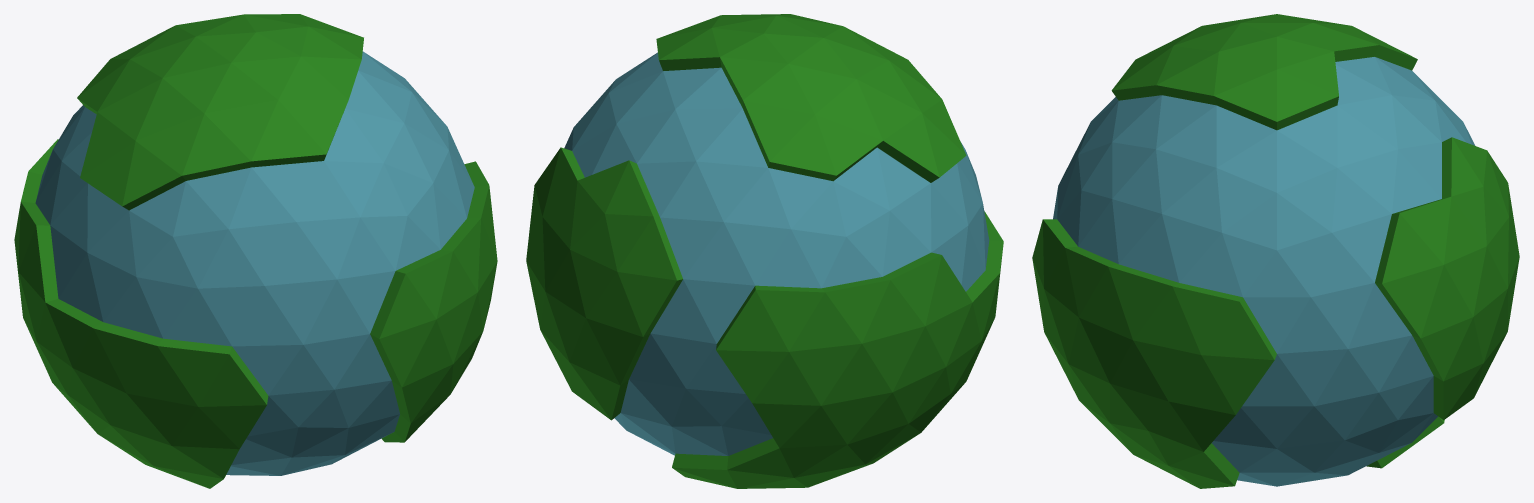
The model's file is world.glb.
3 views of the same model, side by side, from view 1: azimuth 30°, elevation 25°; view 2: azimuth 150°, elevation 25°; view 3: azimuth 270°, elevation 25° (orthographic).
Visible parts, largest first — view 1: Icosphere; view 2: Icosphere; view 3: Icosphere.
Boxes of the visible parts, box(x1,y1,x2,y2) form: Icosphere: box(14, 14, 497, 488); Icosphere: box(526, 14, 1003, 488); Icosphere: box(1032, 14, 1519, 488).
Size of the model in its own units: 2.3 by 2.25 by 2.29.
